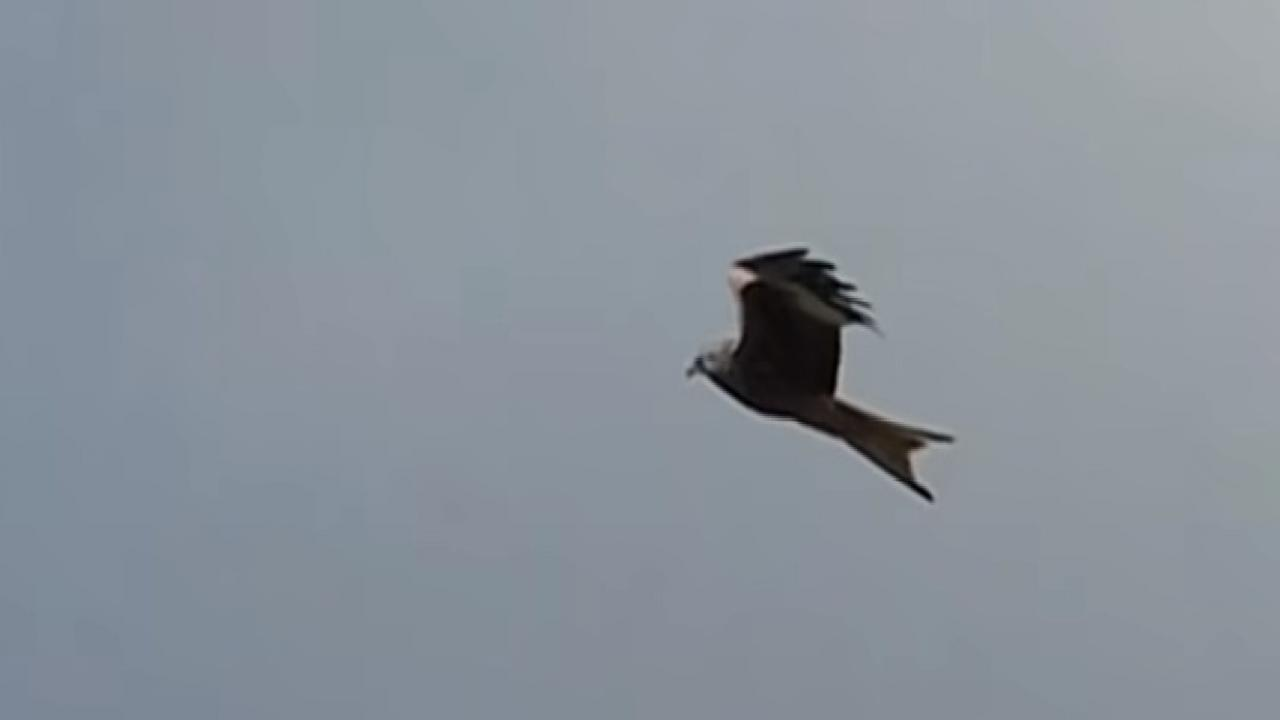Bird: (680, 235, 964, 515)
